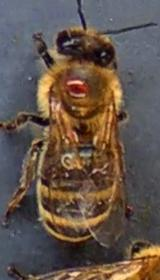varroa_mite: (51, 67, 98, 108)
